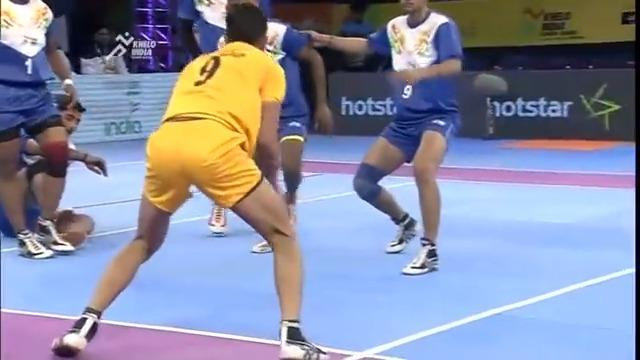Player: (299, 0, 465, 276), (0, 0, 83, 259), (15, 94, 107, 254)
Raider: (50, 2, 329, 358)
